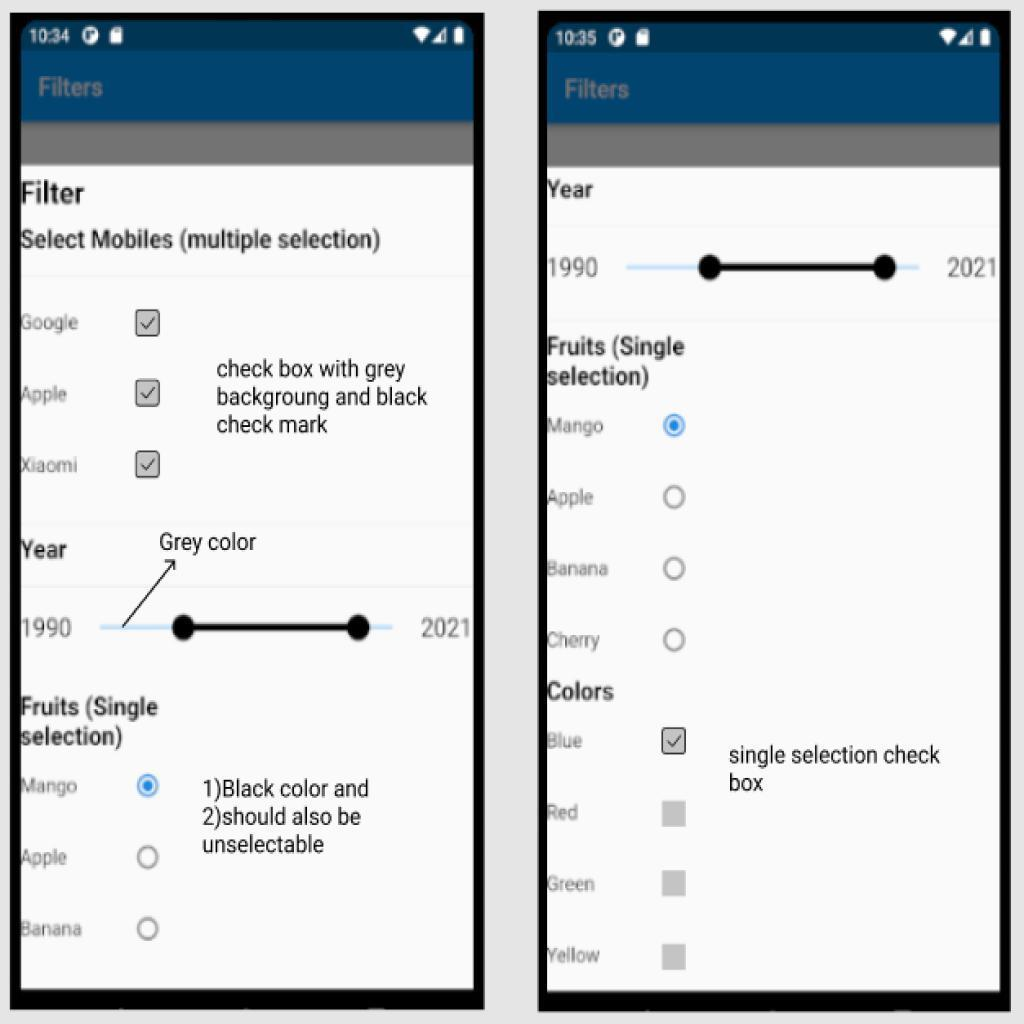checkbox: (660, 871, 690, 900), (135, 309, 162, 337), (661, 944, 688, 972), (136, 379, 162, 408), (136, 451, 161, 479), (662, 728, 687, 756), (661, 801, 688, 826)
radio: (660, 551, 693, 584), (134, 769, 166, 802), (134, 841, 166, 872), (660, 479, 690, 511), (659, 413, 692, 441), (661, 626, 692, 653), (136, 913, 164, 942)
slider: (95, 601, 410, 661), (624, 239, 931, 299)
